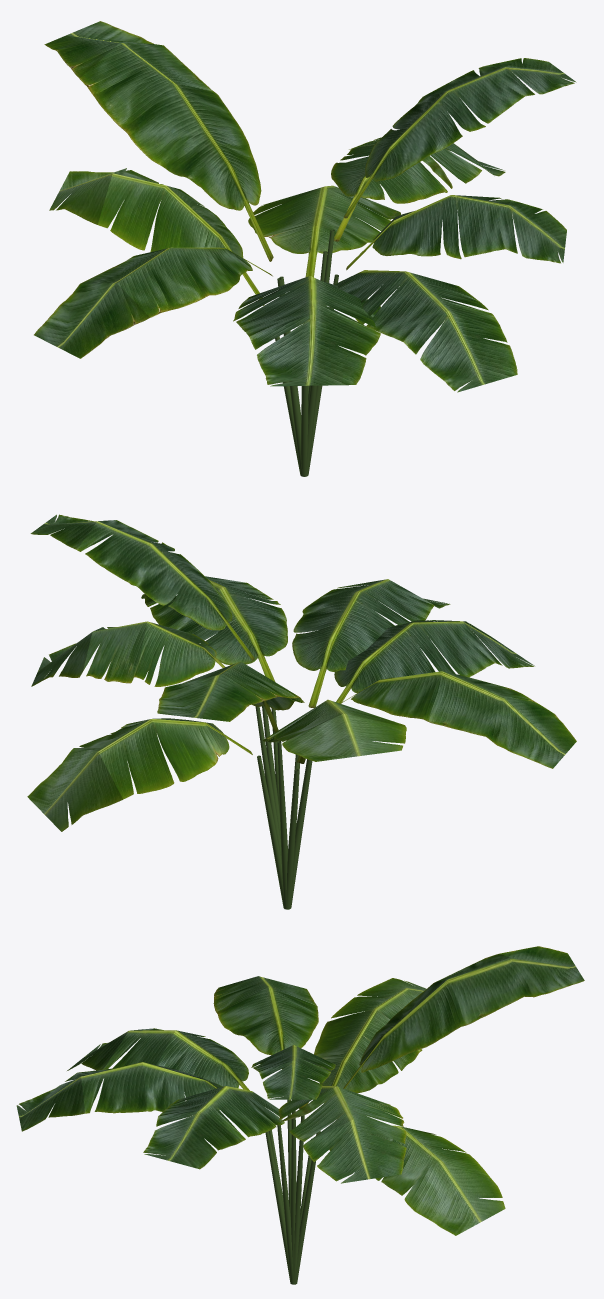
File: broadleaf_01.glb
3 views of the same model, one above another, from view 1: azimuth 30°, elevation 25°; view 2: azimuth 150°, elevation 25°; view 3: azimuth 270°, elevation 25° (orthographic). The views are drawn at different scales.
Visible parts, largest first — view 1: broadleaf_01; view 2: broadleaf_01; view 3: broadleaf_01.
Part boxes in pixels (x1,y1,x2,y2): broadleaf_01: (34,21,576,476); broadleaf_01: (27,514,576,909); broadleaf_01: (16,946,584,1284).
Size of the model in its own units: 2.66 by 1.7 by 2.9.
2 materials, 1 textured.
